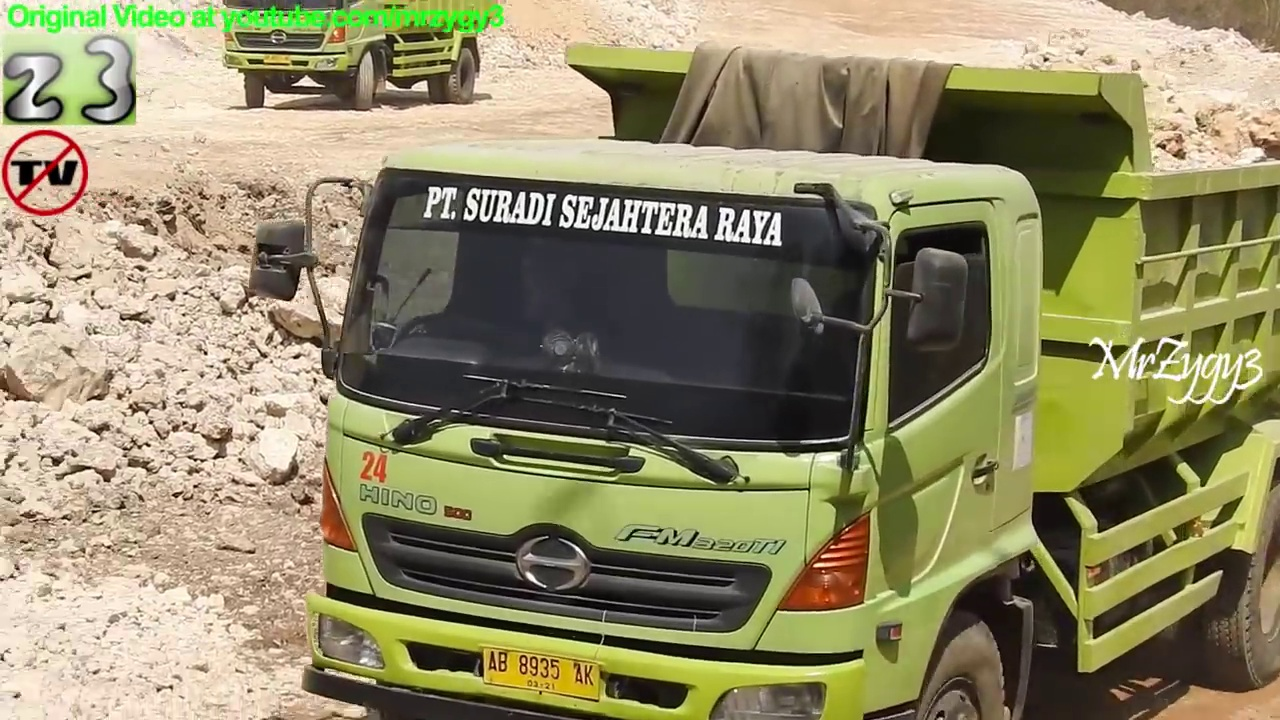truck: (246, 41, 1280, 720), (215, 1, 506, 114)
